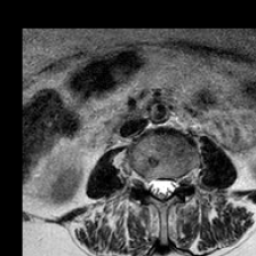CCS_normal: (157, 169, 167, 209)
LFS_normal: (177, 163, 188, 196)
LLS_normal: (167, 169, 177, 203)
RFS_normal: (136, 163, 147, 198)
RLS_normal: (147, 170, 157, 203)
